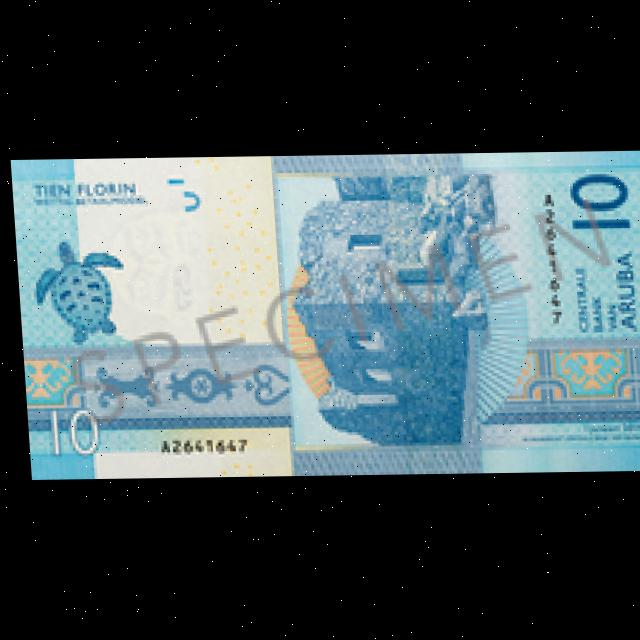banknote: (8, 150, 640, 480)
